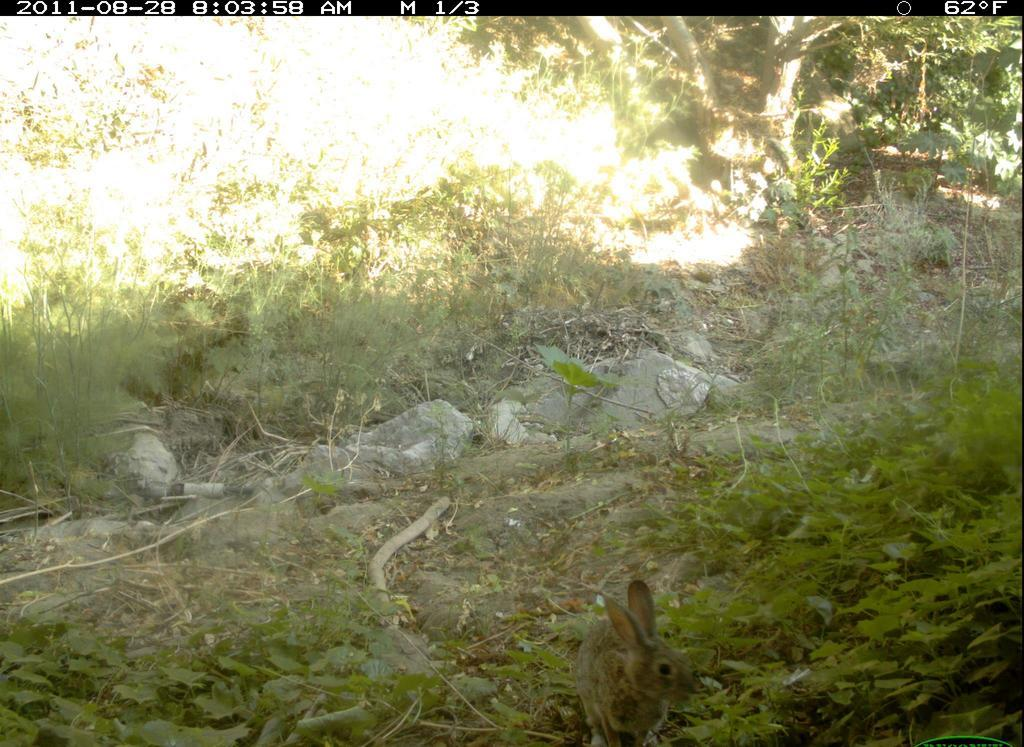rabbit: (571, 577, 711, 743)
